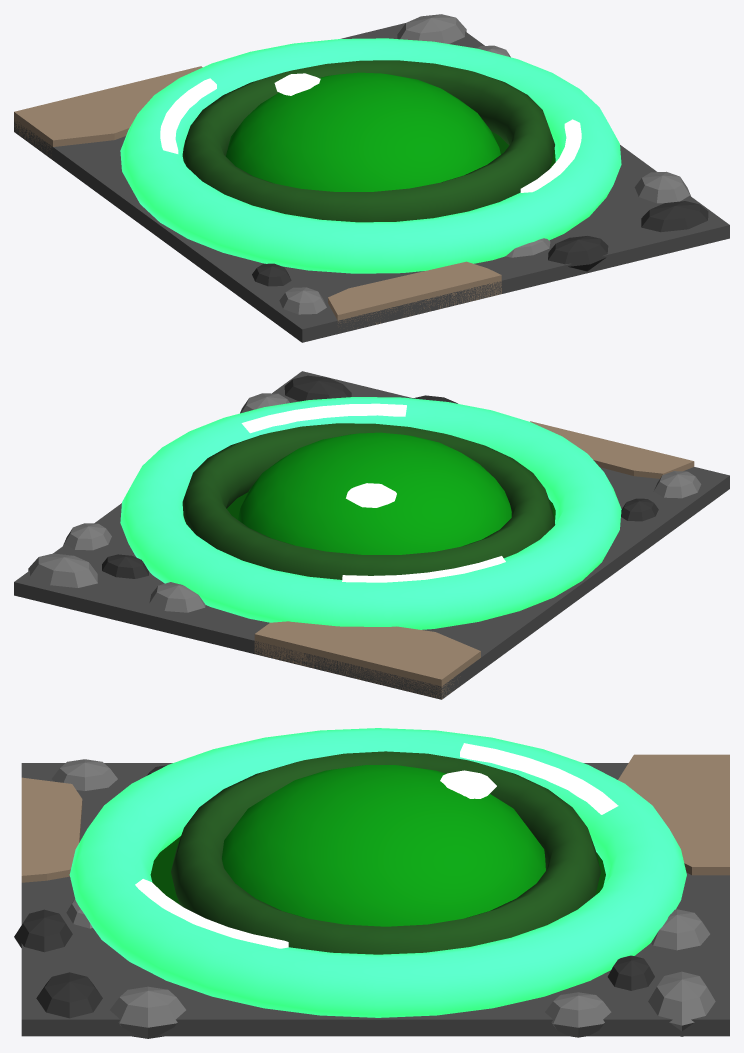
File: newsha-17-f2.glb
The picture shows the model from 3 angles, top to bottom: view 1: azimuth 30°, elevation 25°; view 2: azimuth 150°, elevation 25°; view 3: azimuth 270°, elevation 25°; orthographic projection. The views are drawn at different scales.
Parts seen in each view (by area): view 1: newsha-17-f2; view 2: newsha-17-f2; view 3: newsha-17-f2.
Part boxes in pixels (x1,y1,x2,y2): newsha-17-f2: [14, 14, 729, 342]; newsha-17-f2: [14, 371, 729, 699]; newsha-17-f2: [14, 728, 729, 1038].
Size of the model in its own units: 2.06 by 0.46 by 2.36.
